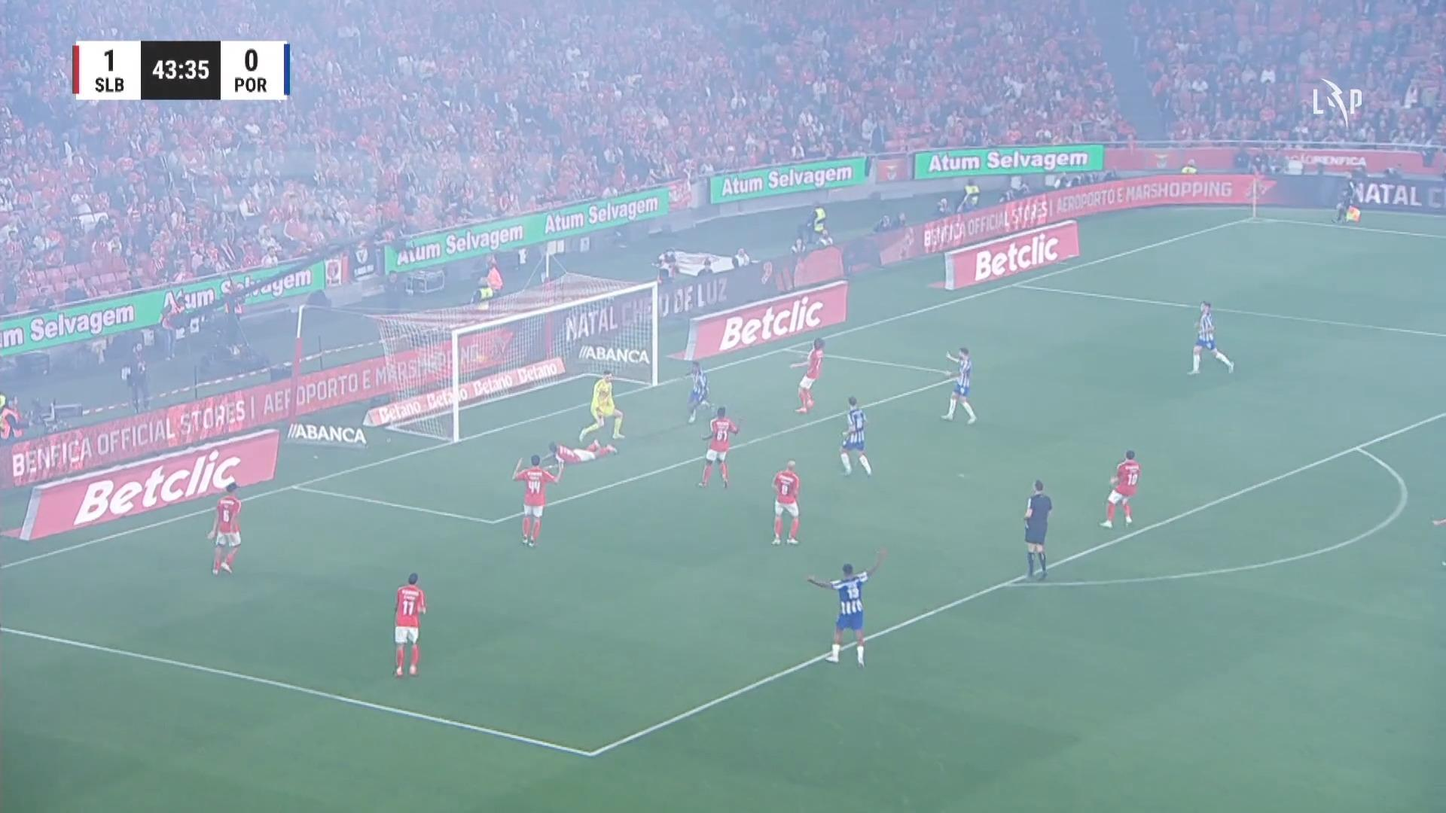goalkeeper: (578, 370, 624, 443)
player: (805, 547, 886, 668), (511, 453, 561, 547), (1186, 300, 1234, 376), (392, 571, 426, 677), (697, 405, 739, 489), (206, 481, 243, 575), (1099, 449, 1140, 528), (546, 438, 618, 482), (940, 346, 977, 424), (838, 395, 871, 477), (789, 336, 824, 413), (770, 459, 801, 545), (685, 360, 712, 423)
referee: (1022, 479, 1052, 580), (1332, 171, 1361, 224)
